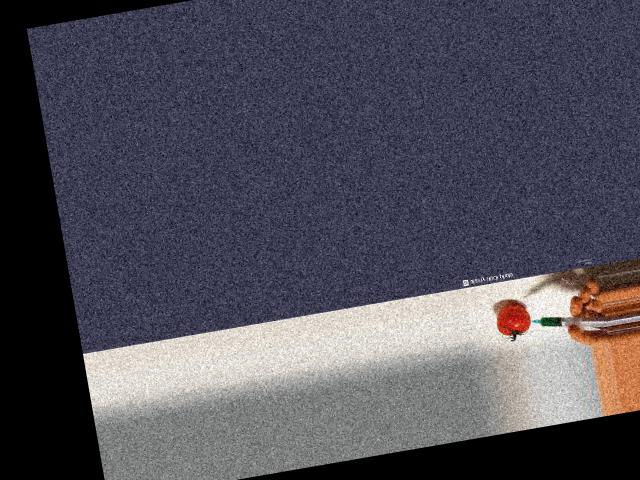tomato: (495, 301, 532, 336)
